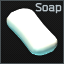Soap: (0, 0, 64, 64)
